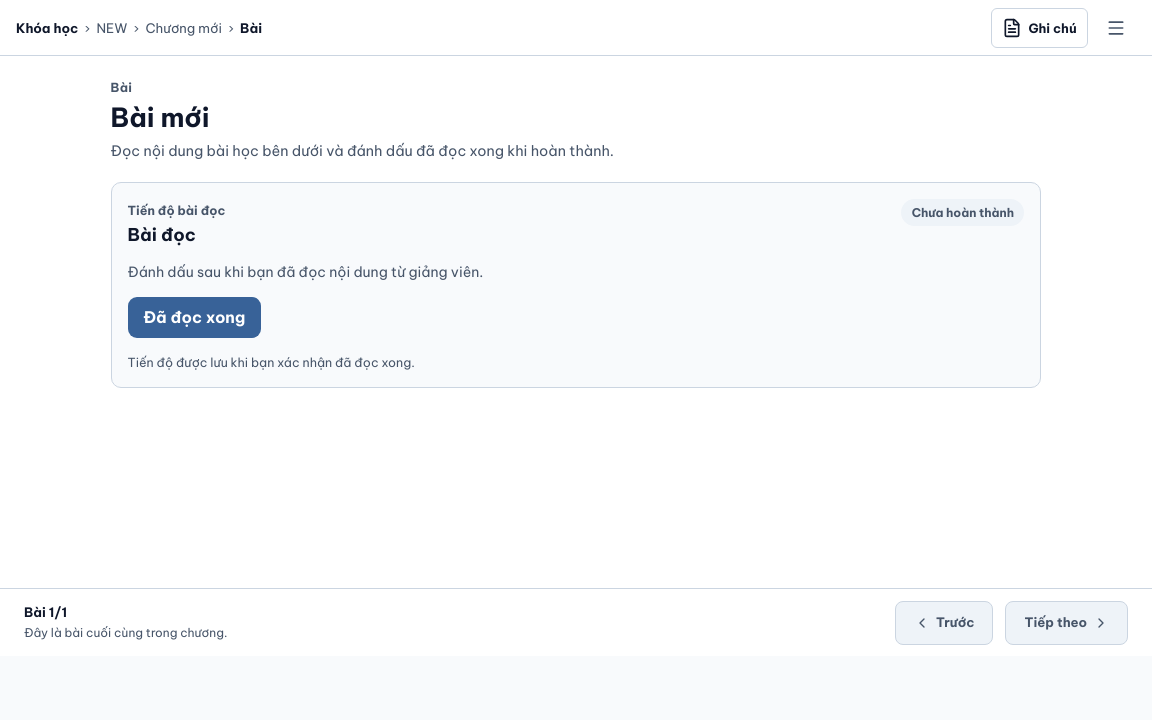
late responses from the previous account and course cannot replace the current lesson
The image size is (1152, 720).
Expected: the heading "Bài mới" is shown, [110,101,210,134]
Click the button named "Mở hoặc đóng nội dung chương" at x=1116, y=28, box [1096,8,1136,48]
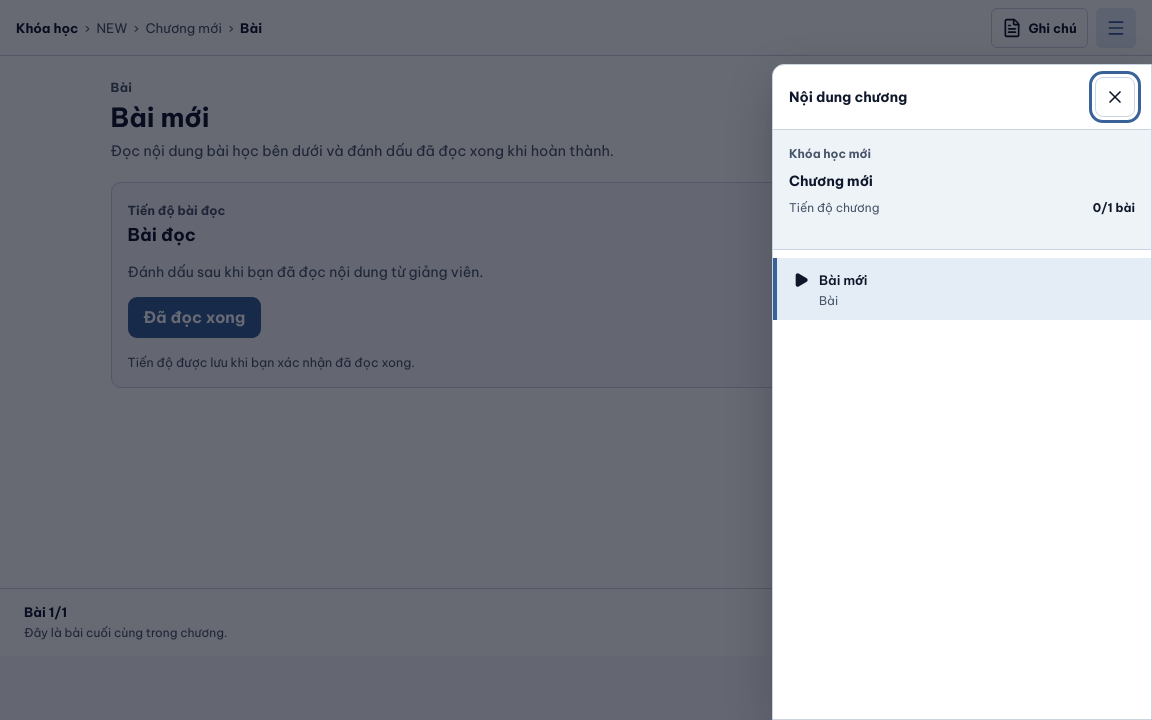
Now the text "0/1 bài" is shown, box [1093,200,1135,215]
